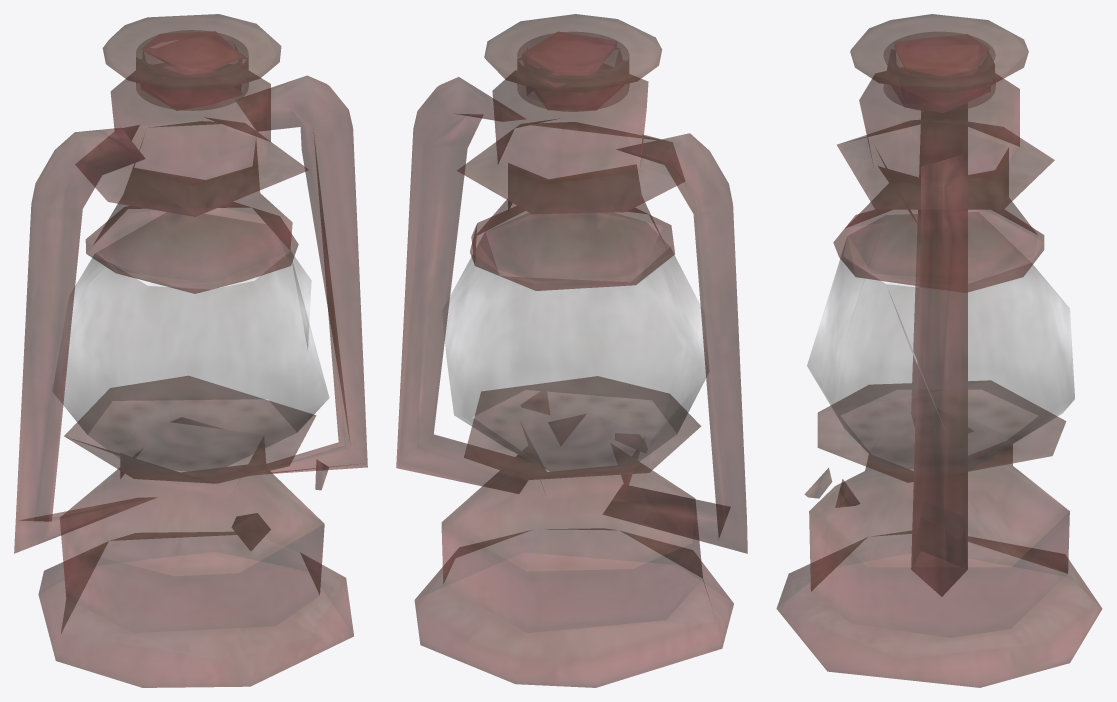
File: oil-lantern.lod0.glb
The picture shows the model from 3 angles, left to right: view 1: azimuth 30°, elevation 25°; view 2: azimuth 150°, elevation 25°; view 3: azimuth 270°, elevation 25°; orthographic projection.
Parts seen in each view (by area): view 1: Cylinder.005_Material.001_0; view 2: Cylinder.005_Material.001_0; view 3: Cylinder.005_Material.001_0.
Part boxes in pixels (x1,y1,x2,y2): Cylinder.005_Material.001_0: (14, 14, 367, 687); Cylinder.005_Material.001_0: (396, 14, 747, 687); Cylinder.005_Material.001_0: (776, 14, 1102, 687).
Size of the model in its own units: 0.2533 by 0.3905 by 0.203.
1 material, 1 textured.
